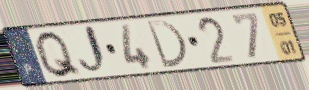2: (196, 14, 237, 66)
4: (121, 21, 154, 72)
7: (230, 10, 263, 61)
D: (144, 18, 189, 70)
J: (77, 23, 112, 79)
Q: (33, 29, 85, 80)
